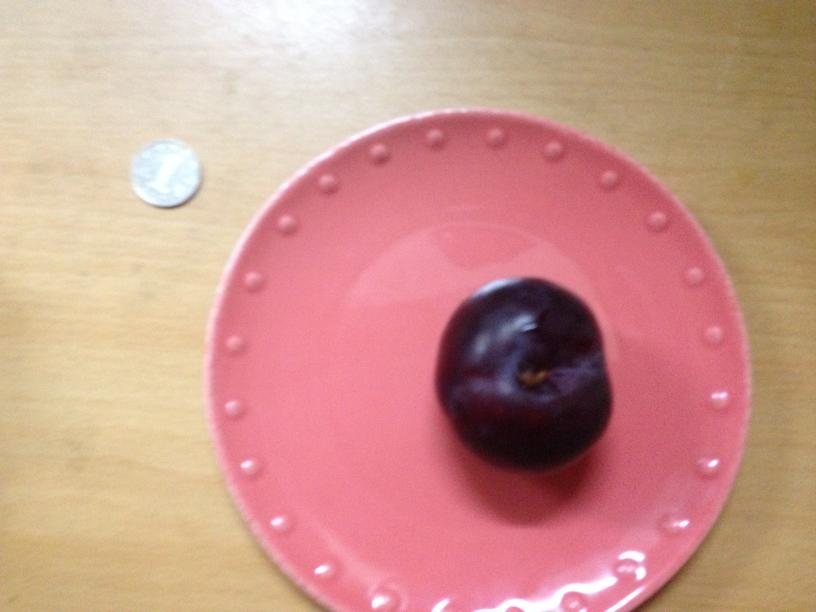coin: (125, 137, 202, 208)
plum: (429, 279, 613, 469)
